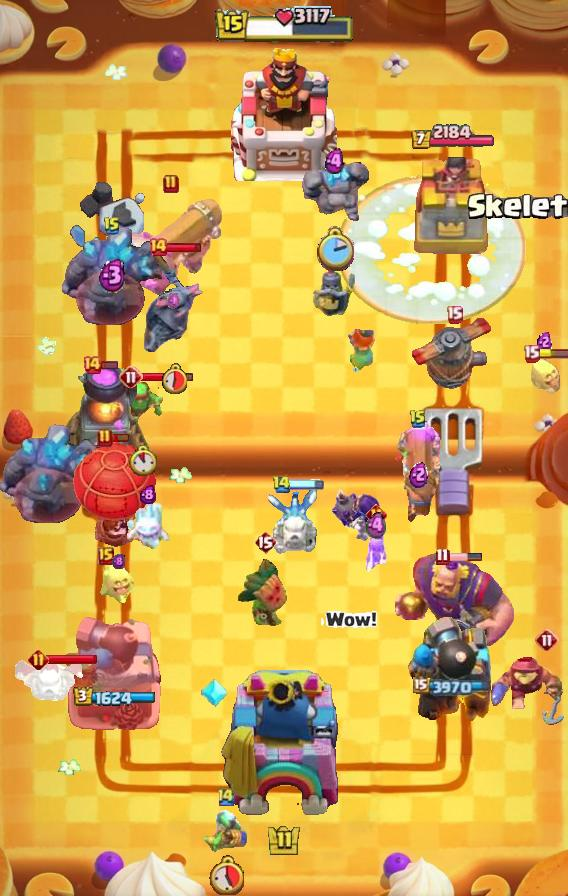bat: (124, 502, 172, 550)
bat-evolution: (98, 559, 138, 603), (527, 351, 561, 395)
battle-healer: (395, 421, 441, 525)
cannon-cart: (70, 438, 160, 548)
cannoneer-tower: (62, 225, 162, 325), (0, 423, 100, 523)
clock: (214, 7, 354, 46)
dark-prince: (405, 313, 503, 395)
electro-spirit: (98, 257, 126, 293), (366, 511, 386, 541), (324, 149, 343, 176), (408, 461, 427, 488), (537, 330, 552, 353), (140, 484, 156, 503), (167, 292, 181, 310), (111, 553, 124, 570)
elixir: (314, 226, 353, 271), (208, 855, 243, 895), (129, 445, 157, 476), (161, 363, 187, 393)
emote: (142, 372, 195, 384), (46, 653, 98, 665), (166, 243, 203, 254), (288, 479, 324, 490), (447, 552, 483, 562), (537, 349, 567, 359), (110, 432, 130, 443), (100, 360, 120, 370)
fireball: (490, 655, 568, 729)
furnace: (116, 198, 226, 304)
giant-snowball: (201, 809, 251, 853), (122, 380, 164, 426)
goblin: (364, 530, 388, 574)
goblin-ball: (329, 488, 381, 544)
goblin-barrel: (236, 558, 294, 628)
golemite: (139, 246, 209, 356)
hog-rider: (342, 324, 380, 376)
hunter: (62, 368, 150, 478)
king-tower: (219, 670, 349, 826), (231, 45, 337, 181)
lightning: (392, 553, 517, 651)
mini-pekka: (265, 484, 319, 556), (12, 656, 86, 704)
pad_2: (200, 677, 228, 709)
phoenix-big: (337, 175, 526, 325)
princess: (311, 263, 357, 319)
queen-tower: (410, 154, 496, 256)
selected: (410, 125, 496, 152), (72, 686, 155, 707), (413, 676, 493, 696)
text: (119, 365, 143, 389), (535, 628, 559, 652), (254, 530, 276, 554), (27, 649, 48, 671), (366, 504, 387, 525), (216, 785, 236, 807), (148, 237, 168, 257), (82, 355, 102, 375), (272, 475, 292, 494), (103, 216, 121, 236), (409, 409, 427, 429), (446, 304, 463, 323), (524, 344, 541, 363), (163, 174, 179, 194), (97, 428, 113, 448), (98, 547, 114, 565), (435, 547, 449, 566)
tower-bar: (63, 615, 165, 731), (403, 615, 503, 731)
valkyrie-evolution: (298, 156, 370, 224)
